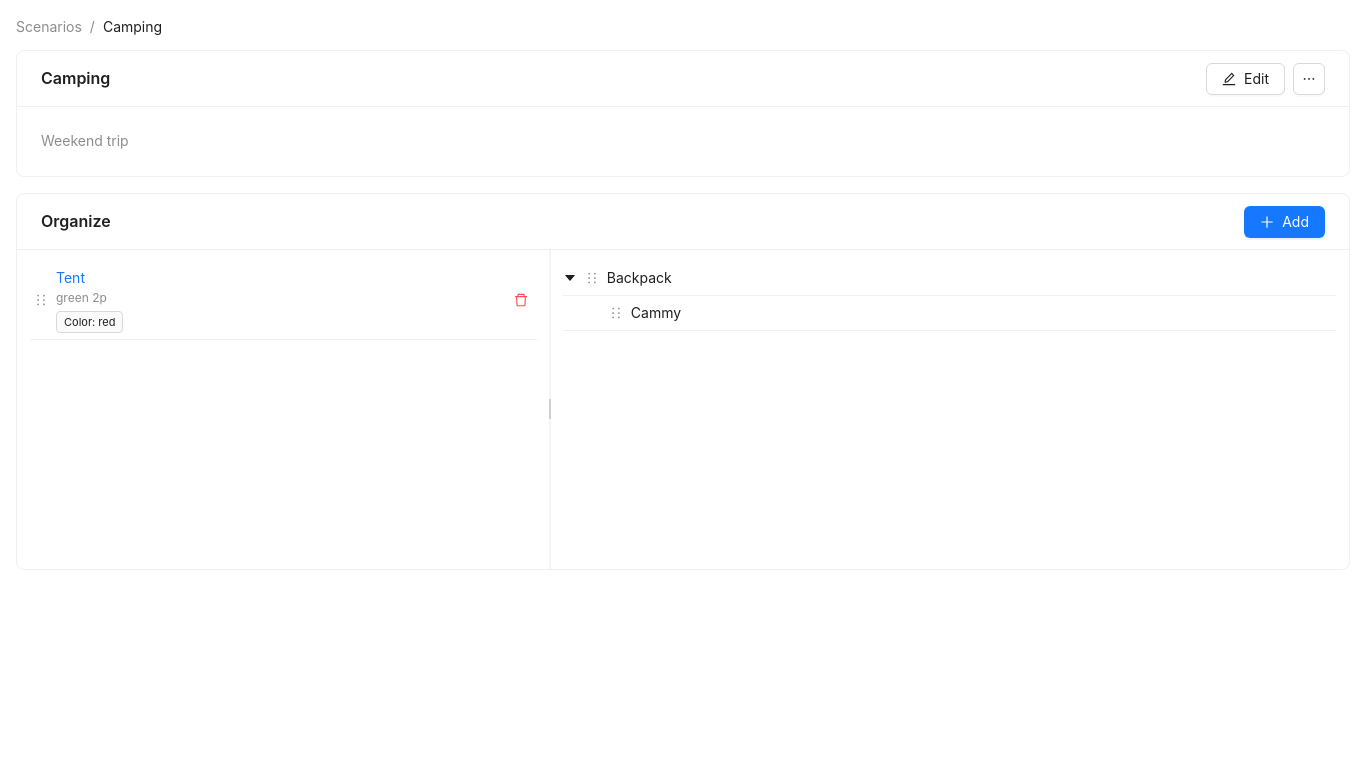
Test: ScenarioDetailPage (iteration 18 — actions, rich rows, dnd-kit panes) › shows the original name tooltip on an aliased organized row
Hover over the button "Cammy" at (656, 312), box top-left (563, 296), bottom-right (1336, 331)
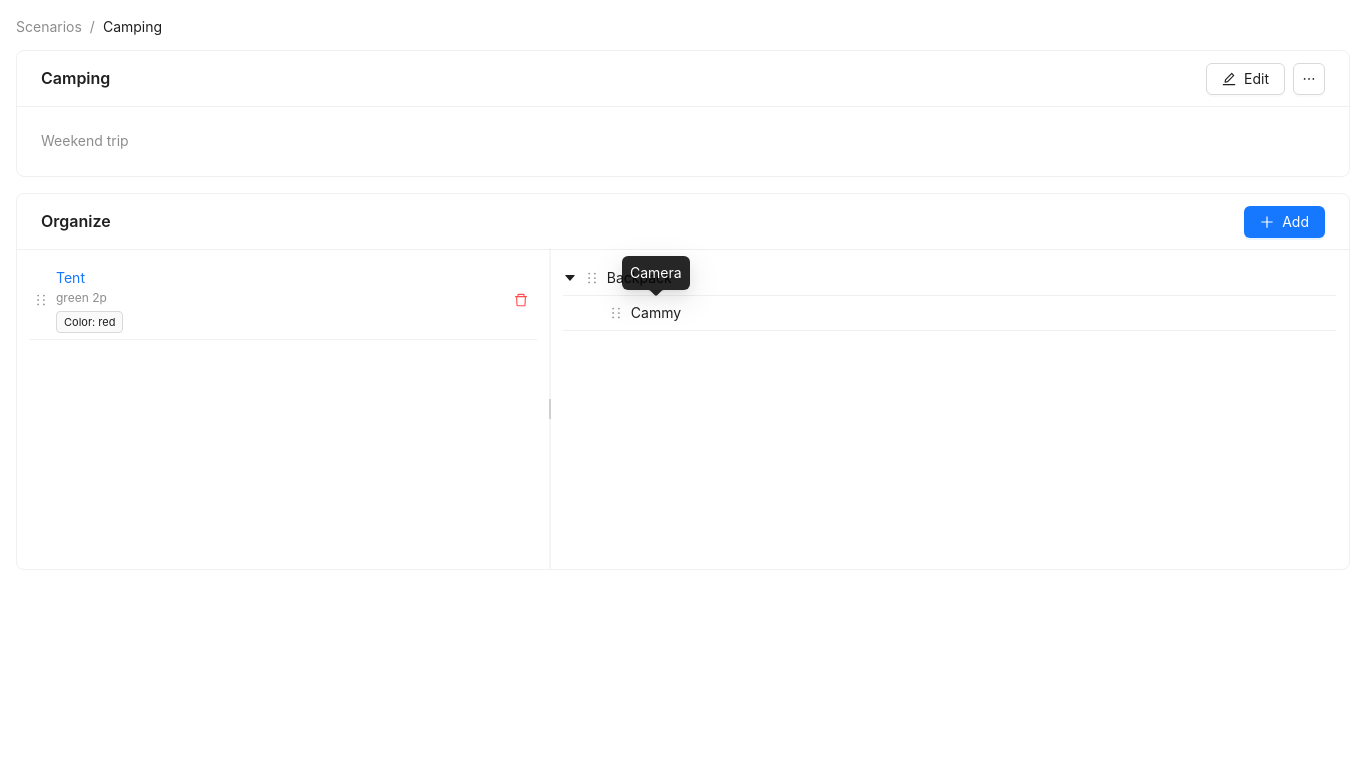
Check: the tooltip reads "Camera", box top-left (630, 264), bottom-right (682, 281)
